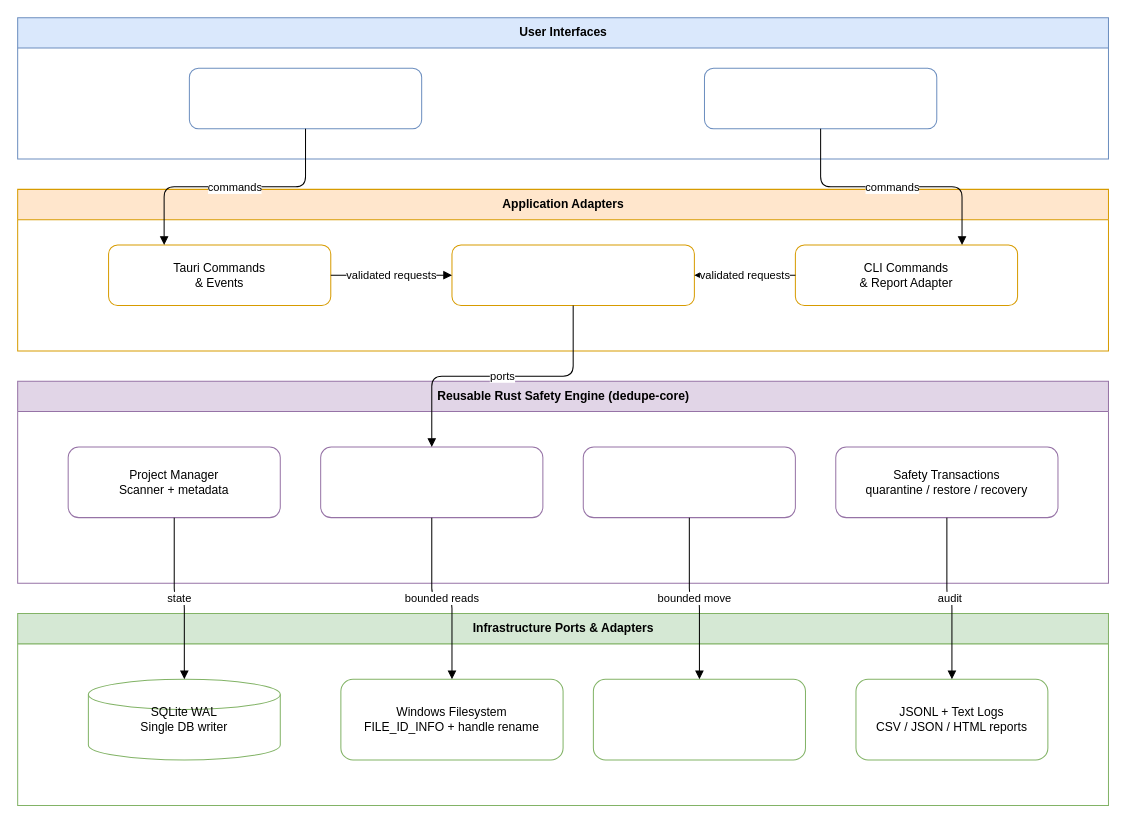
This 1126x823 diagram has some shape labels left out. Here are the shapes that lost their labels. From the top down, the centre of each, then its label:
At point 305,98: "Tauri 2 Desktop TypeScript UI".
At point 820,98: "safe-dedupe CLI Human / JSON output".
At point 572,275: "Operation Orchestrator Idempotency + safety gates".
At point 431,482: "Evidence Pipeline quick → BLAKE3 → SHA-256".
At point 688,482: "Bounded Scheduler pause / resume / cancel".
At point 698,719: "Per-volume Quarantine unique, no overwrite".
